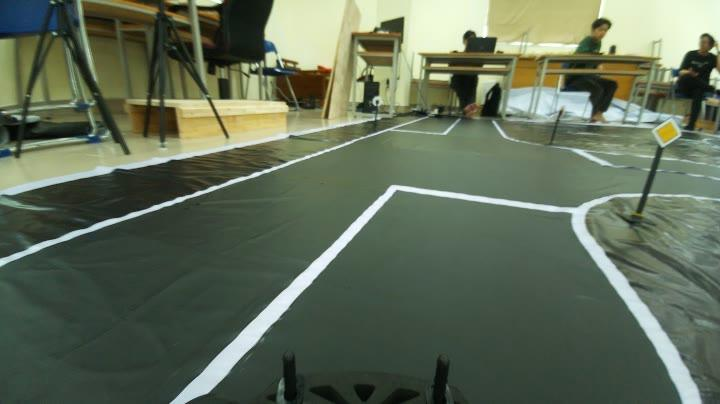priority: (645, 108, 687, 154)
